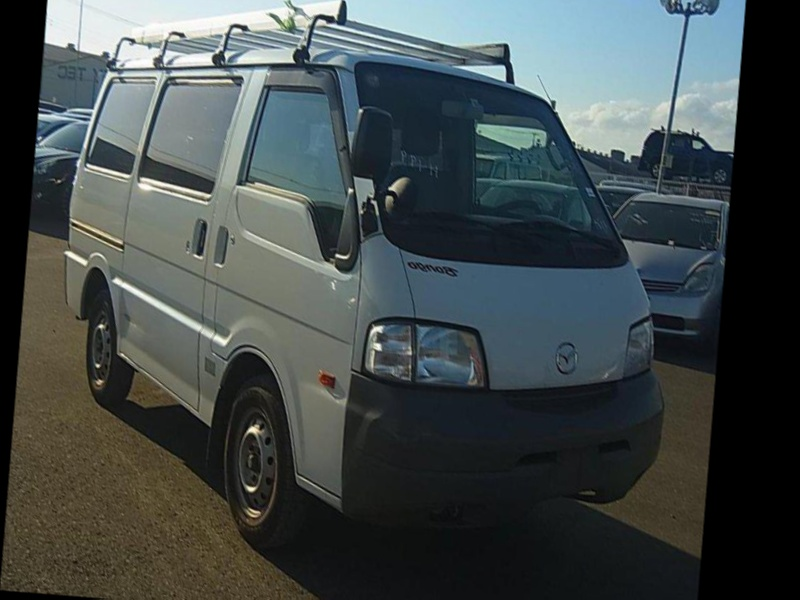van: (49, 0, 691, 569)
